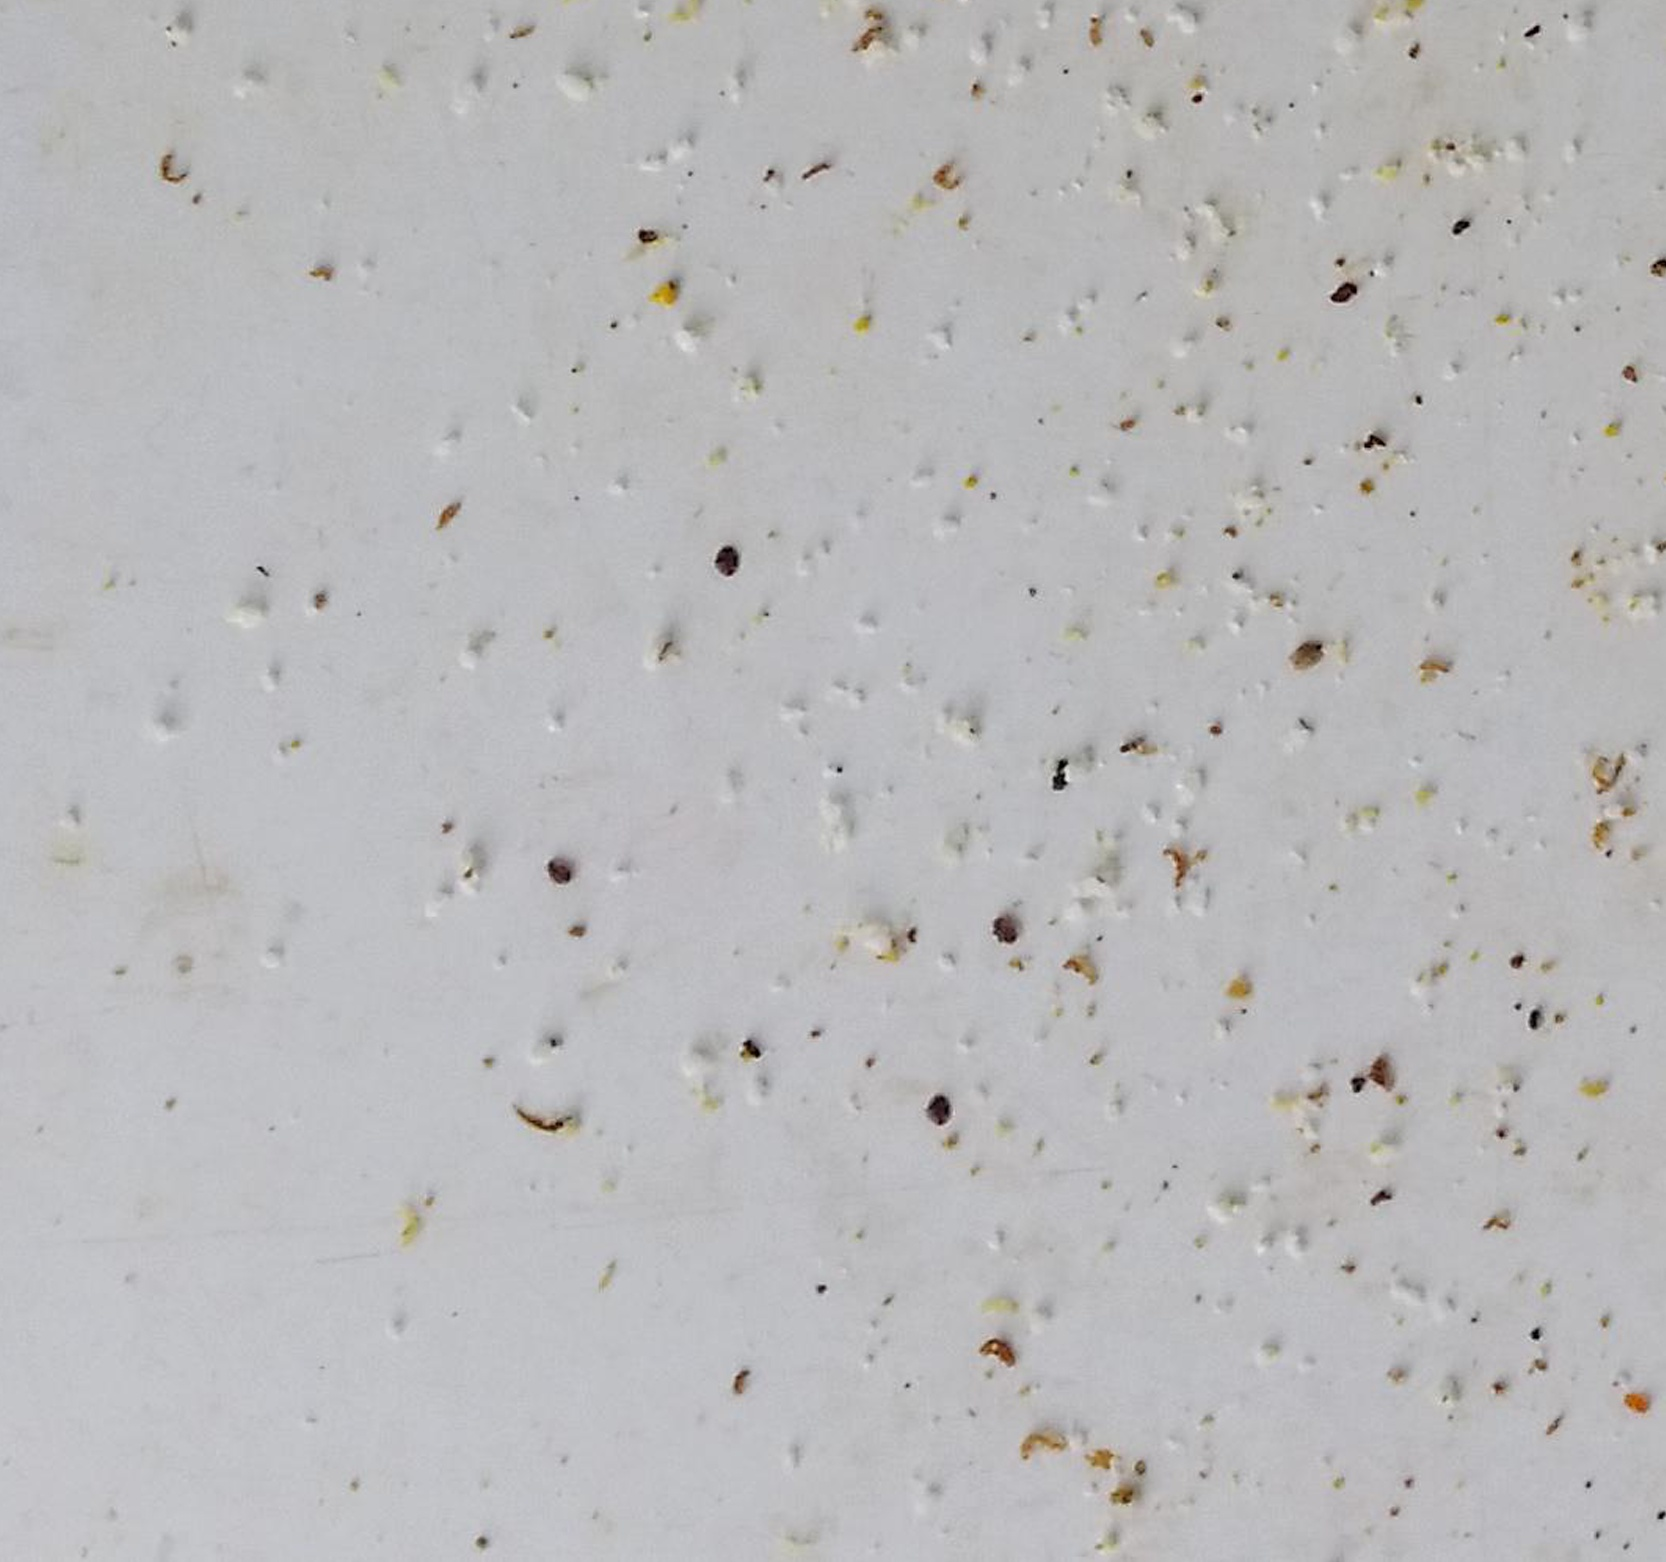Varroa: (910, 1078, 961, 1129), (536, 851, 580, 896), (710, 546, 746, 581), (552, 853, 586, 890), (986, 916, 1020, 951), (530, 856, 564, 891)
